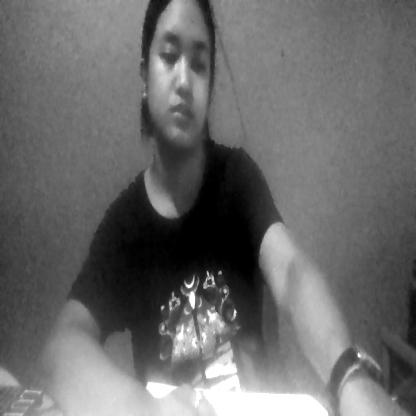Distracted: (138, 2, 230, 164)
